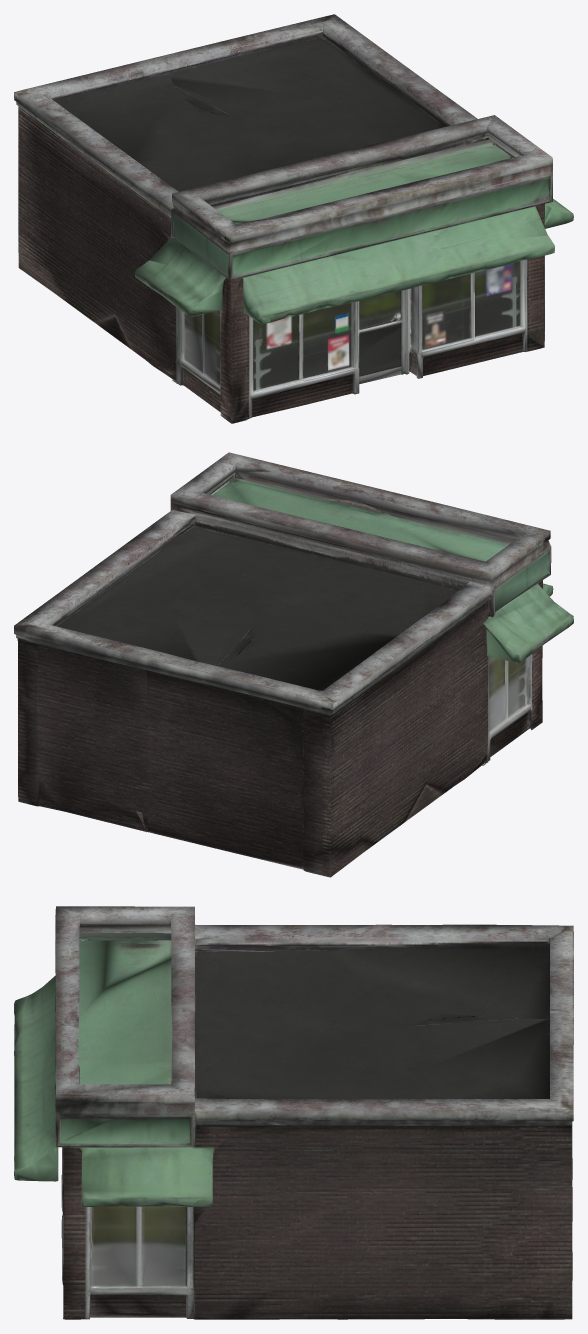
The model's file is building-shop.glb.
3 views of the same model, one above another, from view 1: azimuth 30°, elevation 25°; view 2: azimuth 150°, elevation 25°; view 3: azimuth 270°, elevation 25° (orthographic). The views are drawn at different scales.
Visible parts, largest first — view 1: Mesh_0; view 2: Mesh_0; view 3: Mesh_0.
Boxes of the visible parts, x1,y1,x2,y2 form: Mesh_0: (14, 14, 573, 423); Mesh_0: (14, 452, 573, 877); Mesh_0: (14, 906, 573, 1319).
Size of the model in its own units: 1.81 by 0.8554 by 1.9.
Materials: 1 (1 with a texture image).
